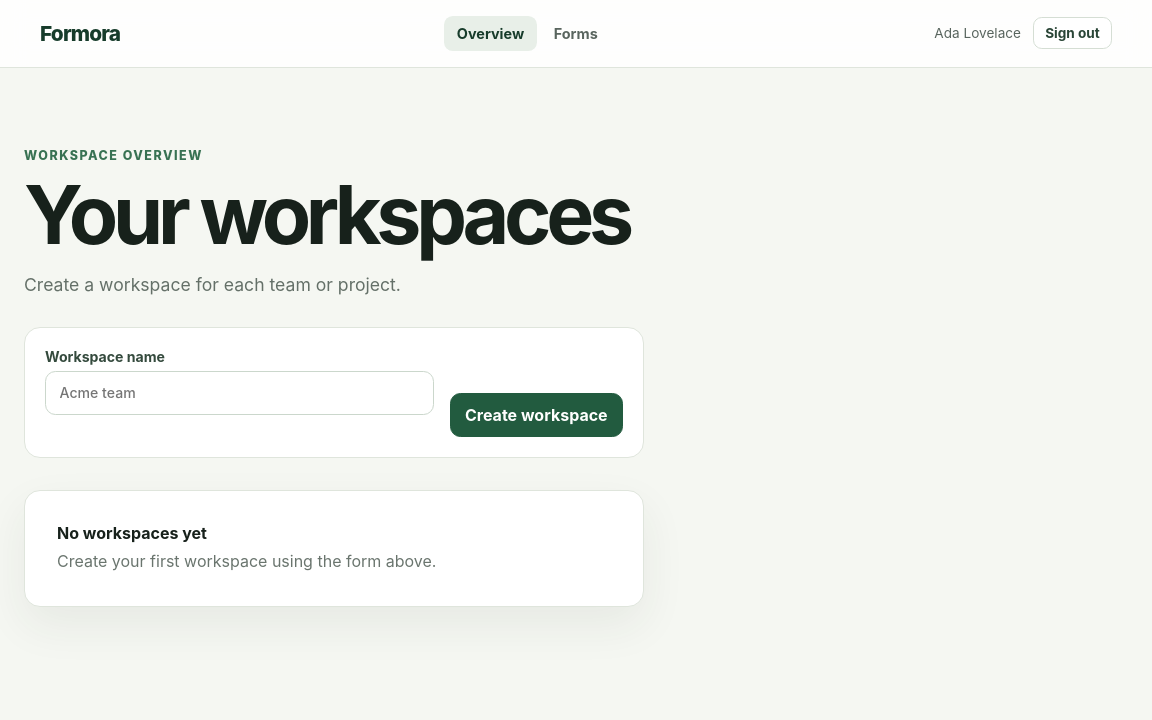
Scenario: application routes › navigates to the workspace chooser
This screenshot has width=1152, height=720.
Click the link "Forms" at (576, 33), box [554,25,598,42]
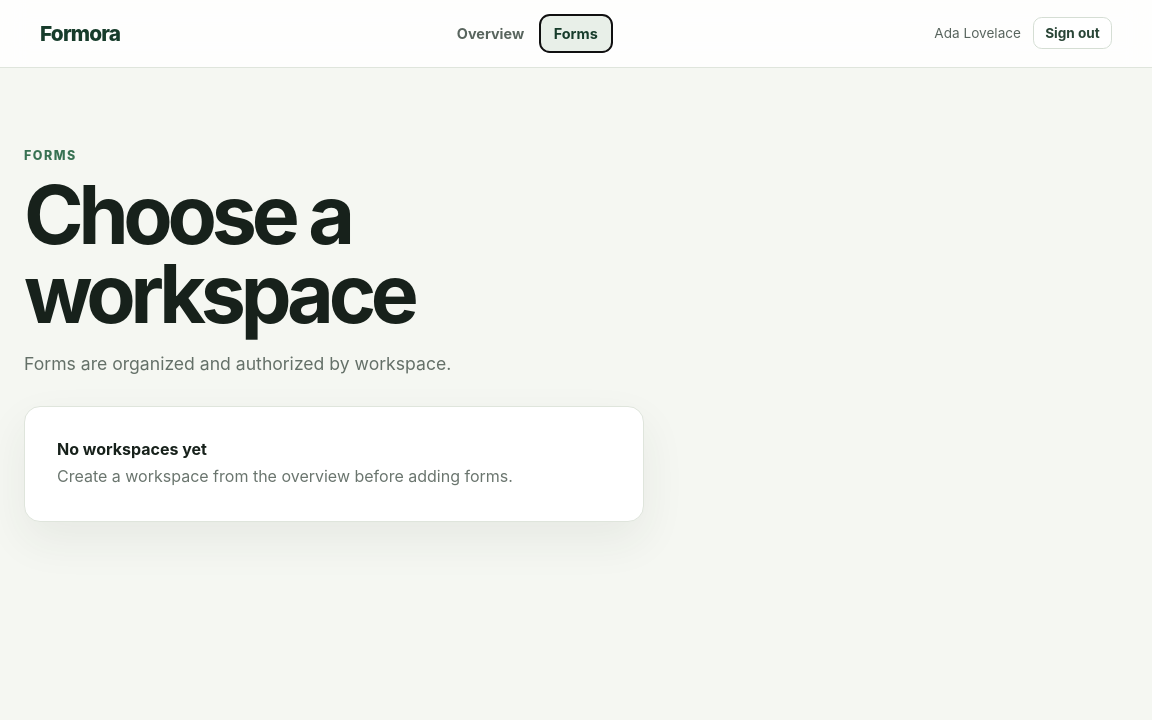
Expected: the heading "No workspaces yet" is shown, [57,439,207,459]
Result: the heading "Choose a workspace" is shown at [24,166,414,342]
